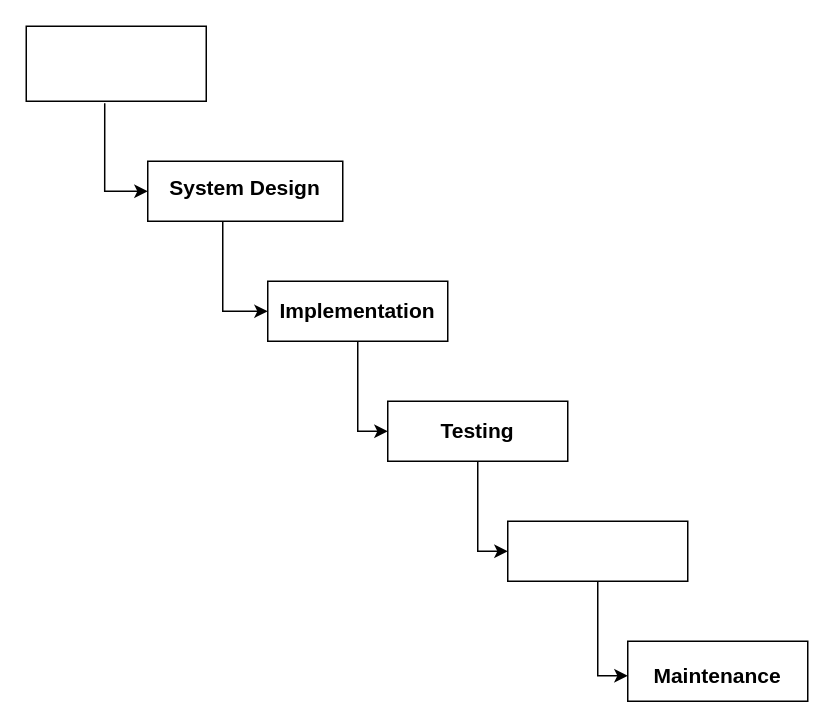
This 834x728 diagram has some shape labels left out. The box of each missing label's shape, as (x1, y1, x2, y2) in pixels:
Deployment: (506, 520, 688, 581)
Requirements Gathering: (25, 25, 206, 101)
